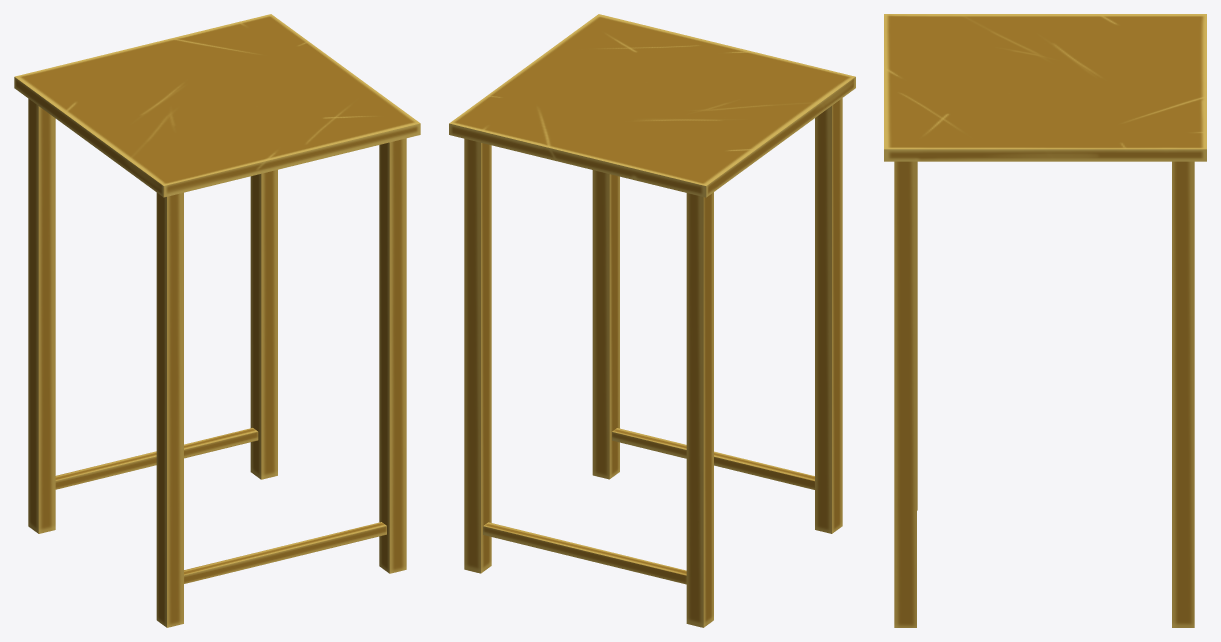
Rendered from TABLE.FBX.
The picture shows the model from 3 angles, left to right: view 1: azimuth 30°, elevation 25°; view 2: azimuth 150°, elevation 25°; view 3: azimuth 270°, elevation 25°; orthographic projection. The views are drawn at different scales.
Parts seen in each view (by area): view 1: Box008; view 2: Box008; view 3: Box008.
Boxes of the visible parts, <box> form: Box008: <box>14,14,420,627</box>; Box008: <box>449,14,855,627</box>; Box008: <box>884,14,1206,627</box>.
Bounding box in the file's own units: 91.47 × 152 × 92.18.
1 material, 1 textured.
